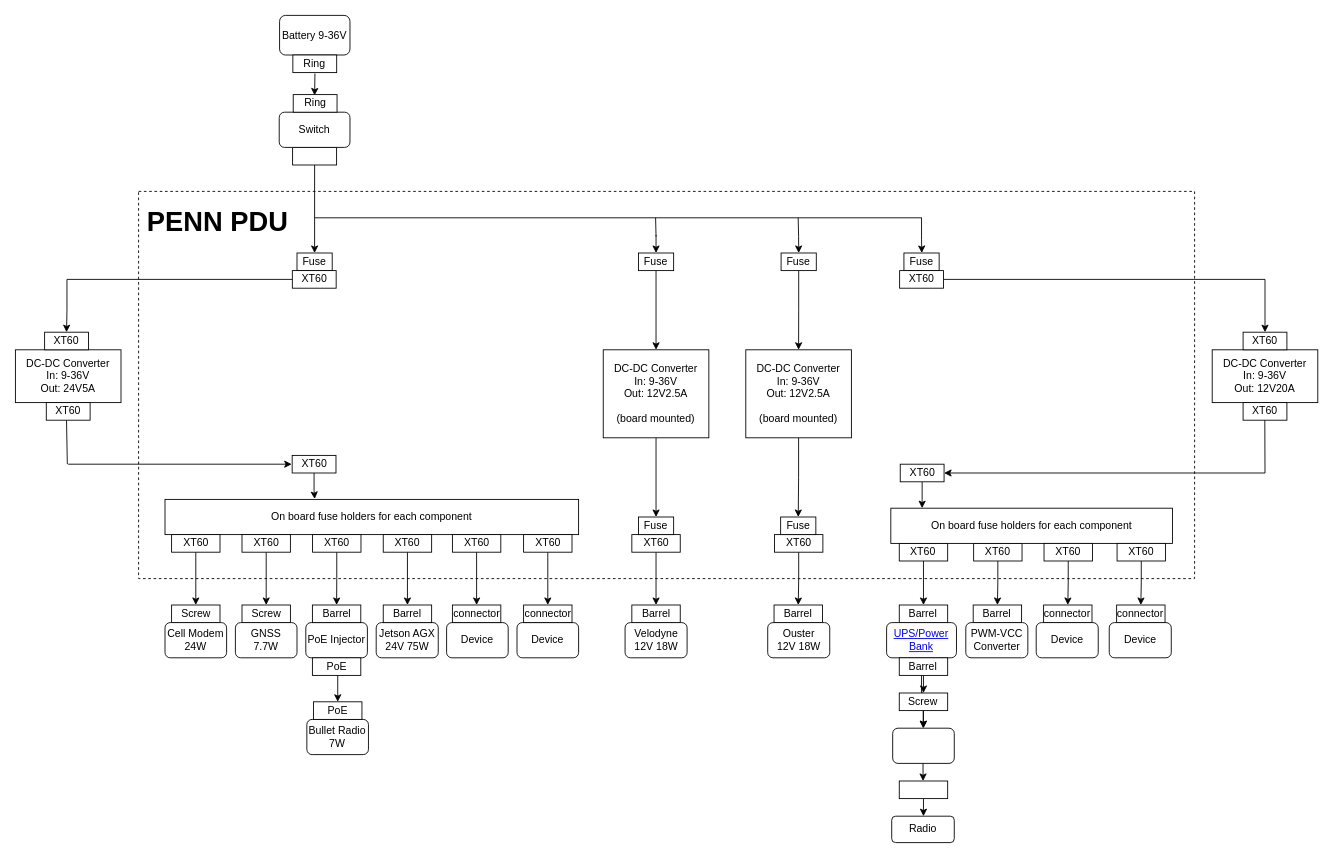
Image size: 1333x858. Some labels were removed from this diagram. Each missing label, with the centre of its shape:
GPIO: the point at 923,789
Nucleo: the point at 923,745
XT90: the point at 314,156
